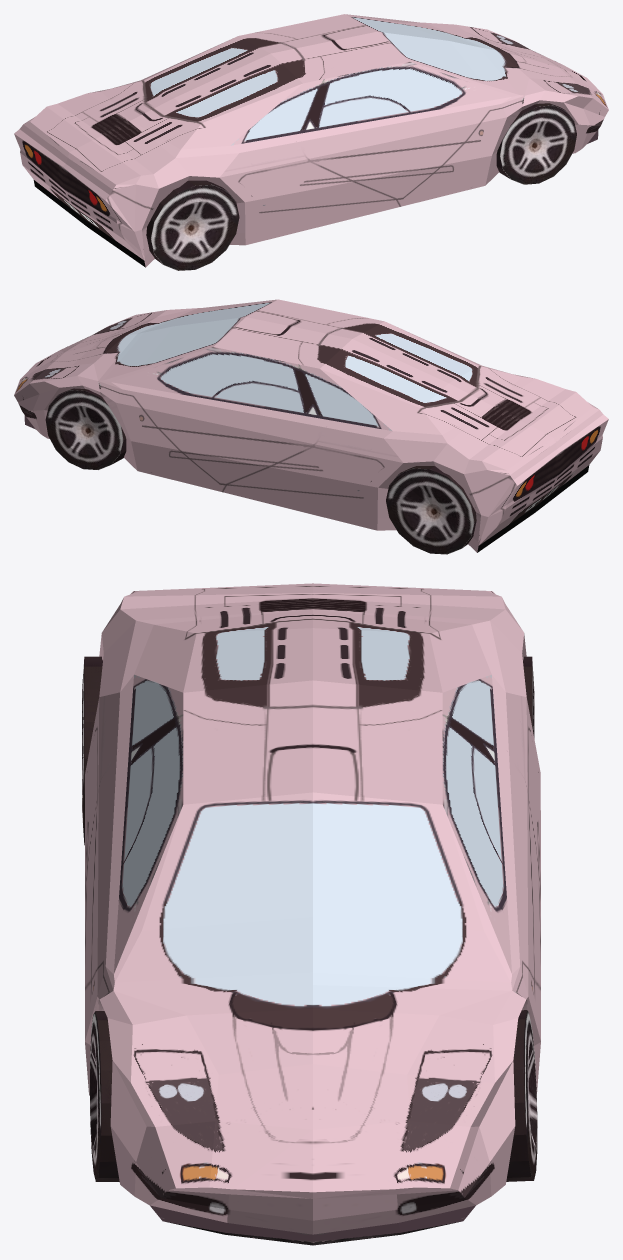
File: f1-pink.glb
3 renders of one model, top to bottom at view 1: azimuth 30°, elevation 25°; view 2: azimuth 150°, elevation 25°; view 3: azimuth 270°, elevation 25°, orthographic. The views are drawn at different scales.
Visible parts, largest first — view 1: Cube, Cube.003, Cube.001; view 2: Cube, Cube.002, Cube.004; view 3: Cube, Cube.004, Cube.001, Cube.003.
Boxes of the visible parts, x1,y1,x2,y2 form: Cube: (14,14,608,267); Cube.003: (146,180,239,270); Cube.001: (496,103,576,184); Cube: (14,299,608,552); Cube.002: (386,466,476,554); Cube.004: (45,388,126,469); Cube: (85,583,540,1245); Cube.004: (506,1010,537,1181); Cube.001: (89,1011,119,1181); Cube.003: (82,656,102,845).
Size of the model in its own units: 12.71 by 3.28 by 4.77.
2 materials, 2 textured.
